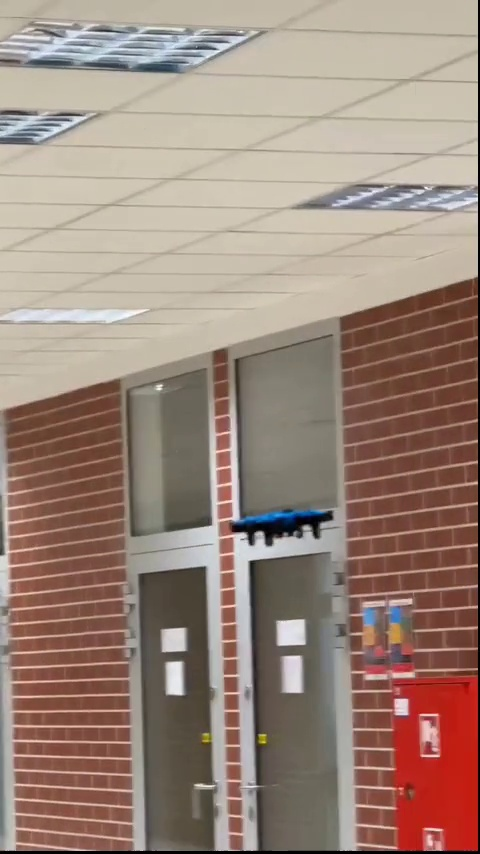drone: (224, 509, 332, 547)
